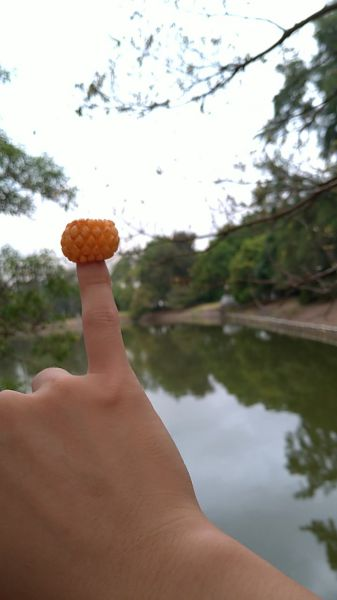eggs: (61, 219, 119, 263)
